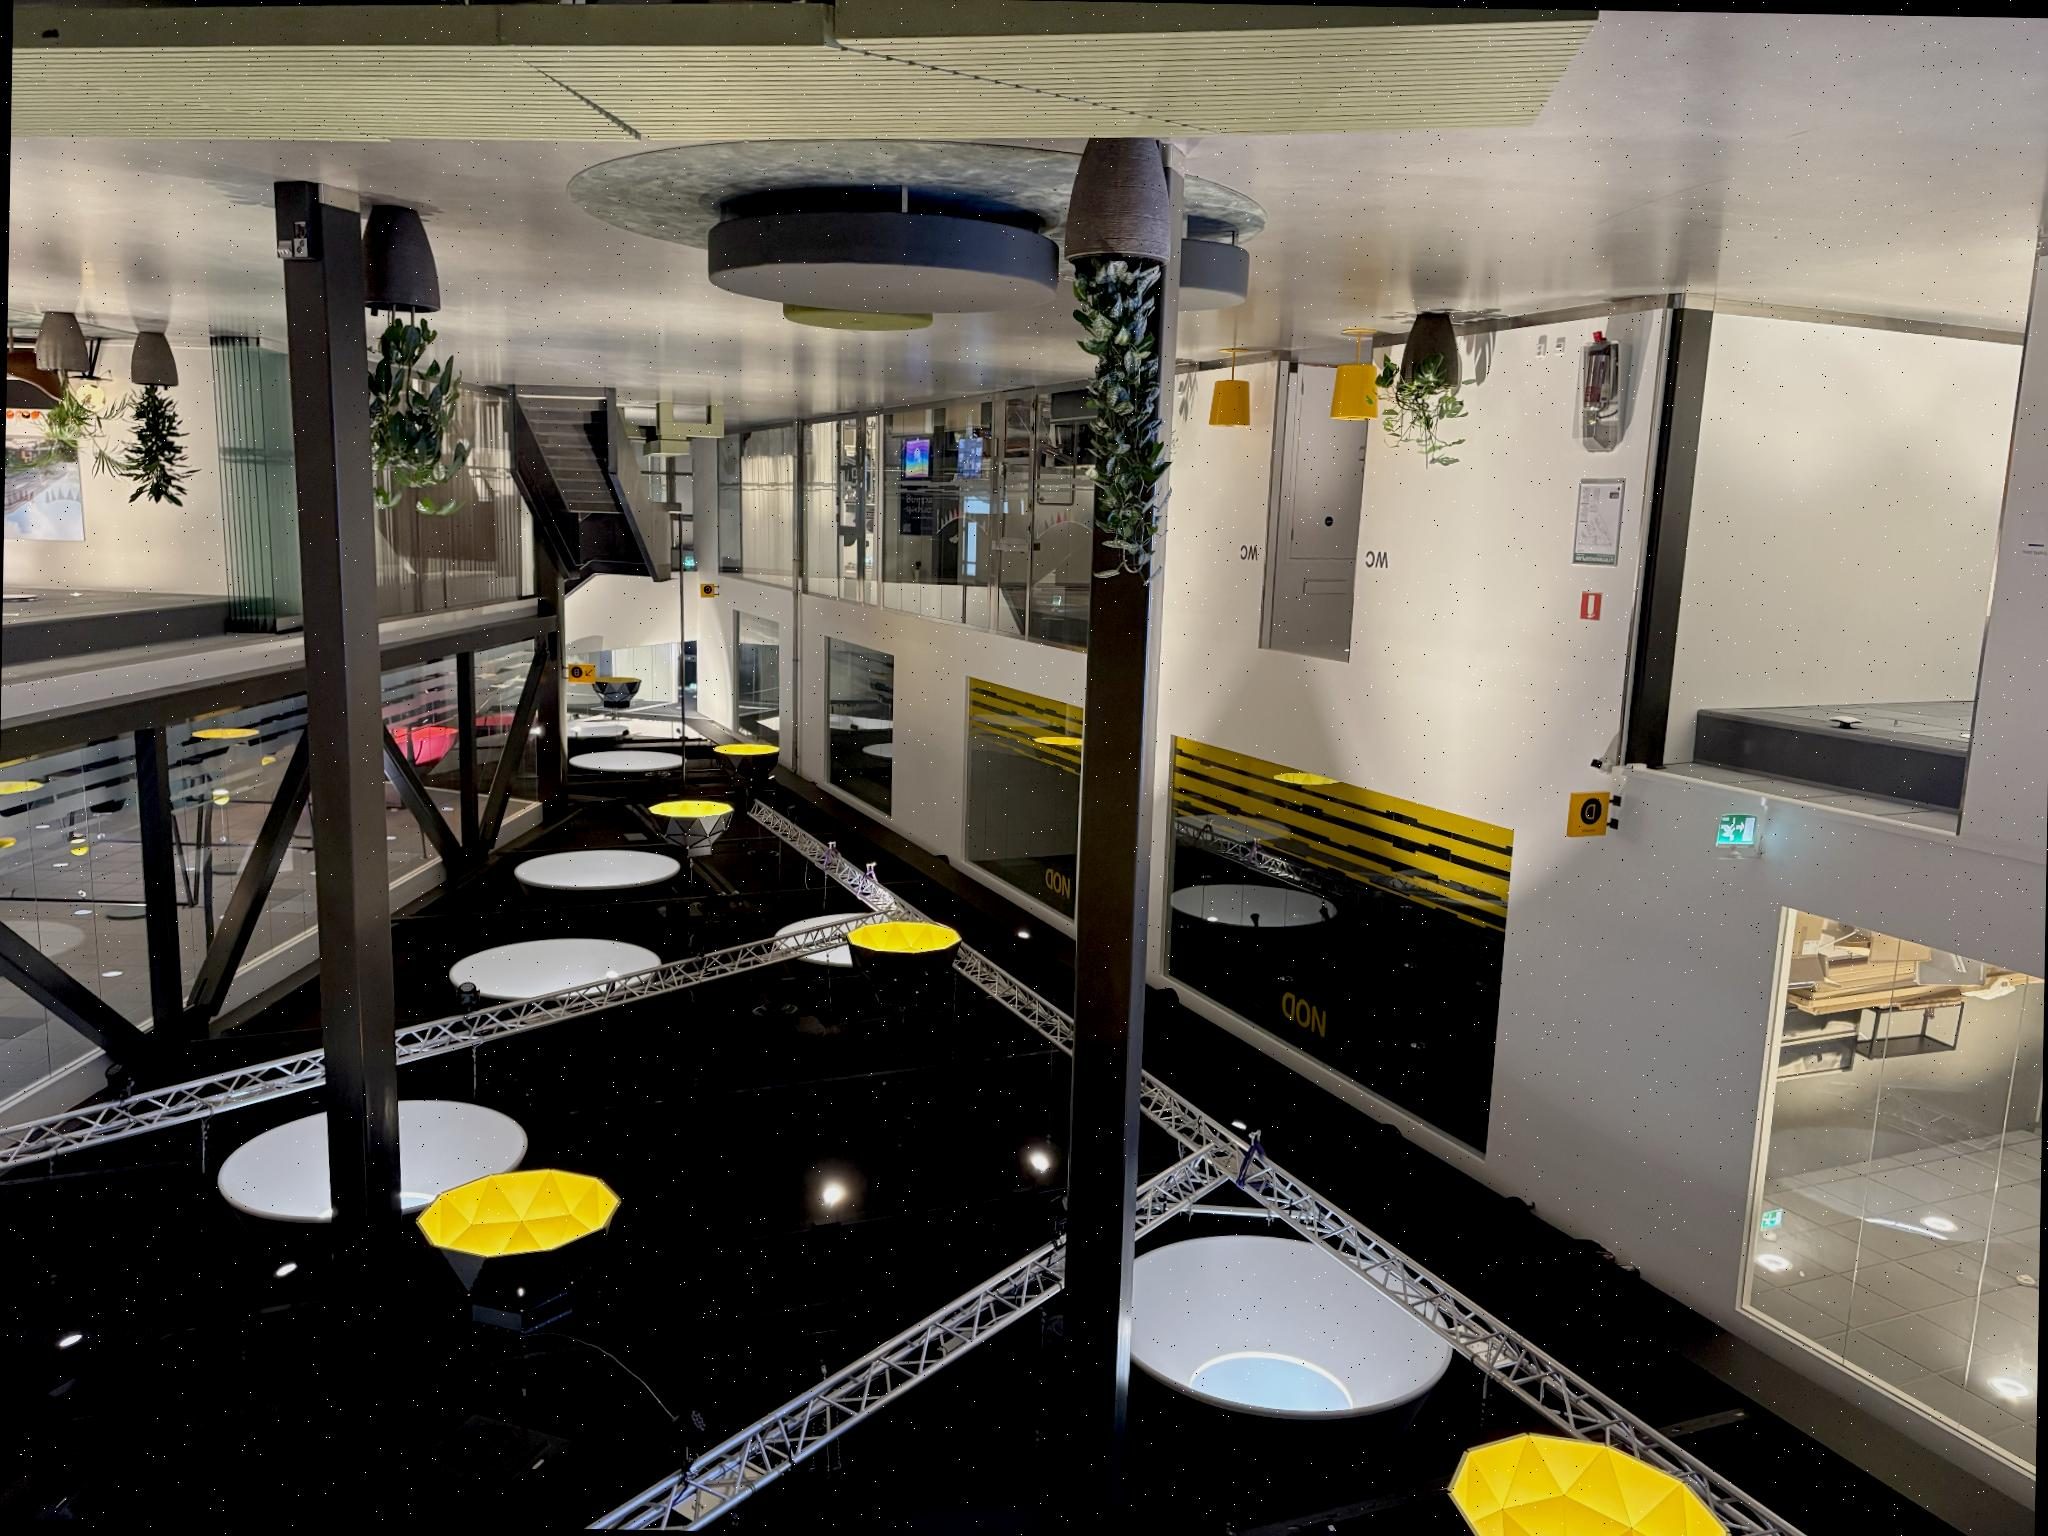exit_sign: (1721, 813, 1756, 844), (684, 557, 695, 566)
